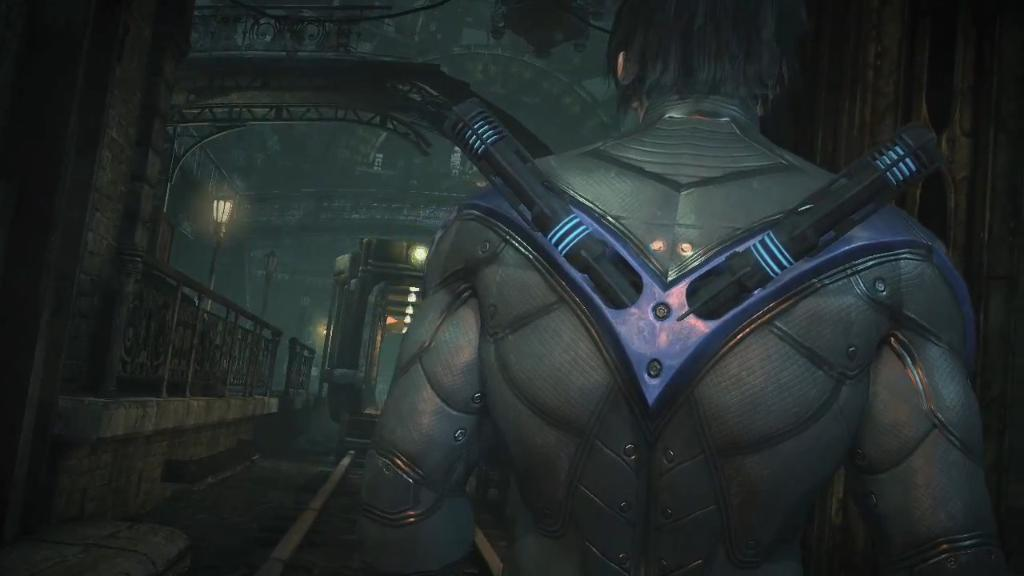Person: (355, 0, 1010, 576)
